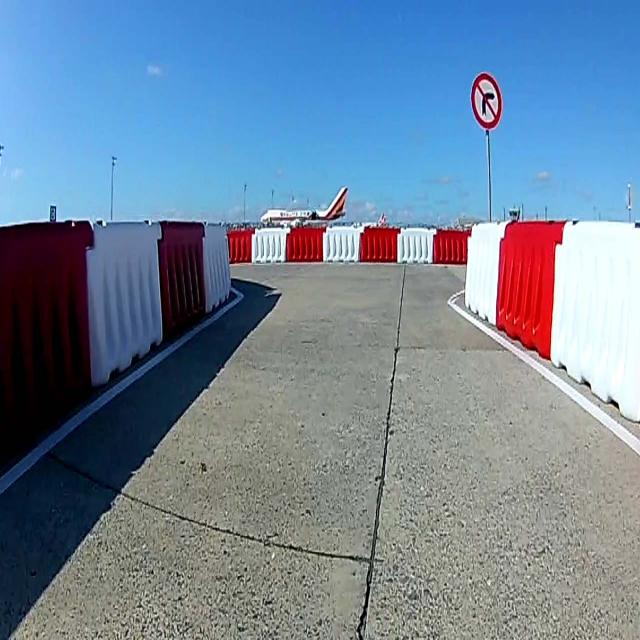sagadonulmez: (470, 72, 503, 130)
